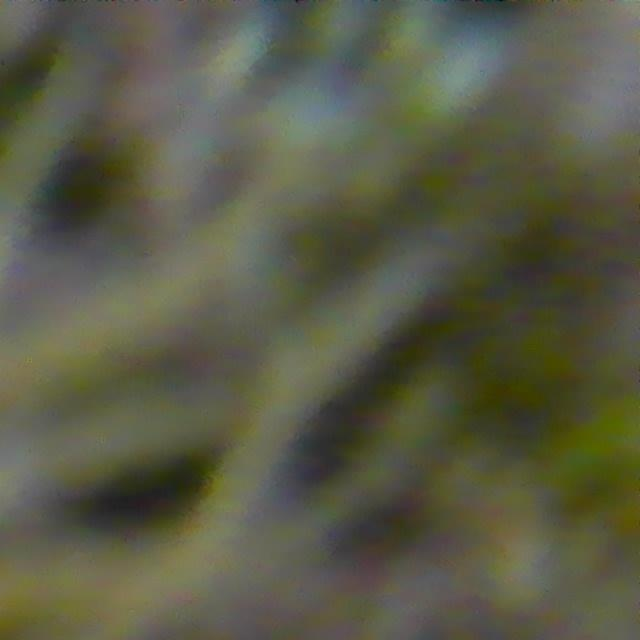SeaGrape: (303, 0, 382, 60)
